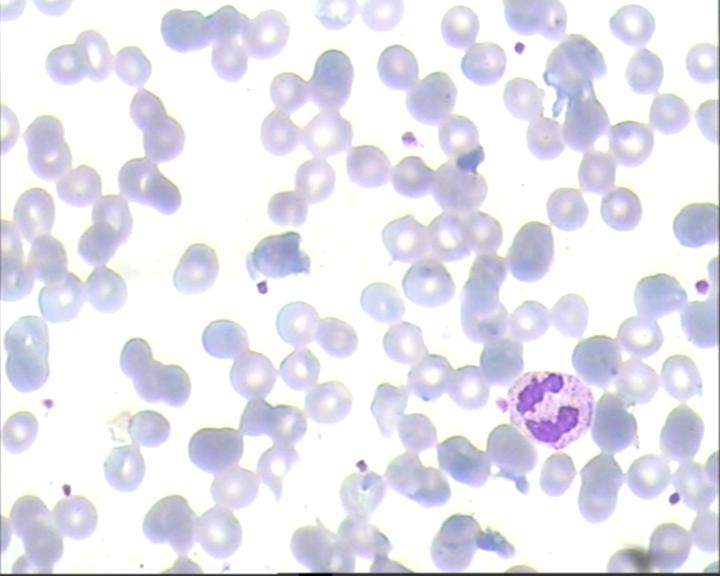neut: (507, 366, 595, 450)
